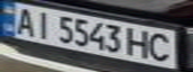3: (103, 22, 127, 54)
4: (87, 20, 106, 52)
5: (51, 12, 75, 45), (69, 17, 90, 48)
A: (9, 6, 39, 36)
C: (145, 30, 178, 63)
H: (124, 26, 154, 59)
I: (30, 9, 57, 40)
